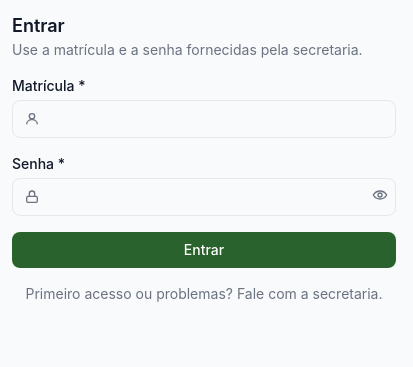
LoginForm › mostra erros quando os campos obrigatórios estão vazios
Click the button "Entrar". click: (204, 250)
box: [12,232,396,268]
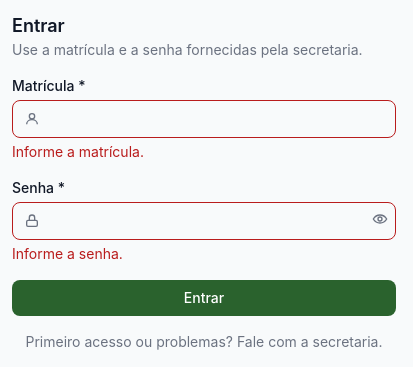
Result: the text "Informe a matrícula." is shown at [12,143,144,160]
Result: the text "Informe a senha." is shown at [12,245,123,262]
